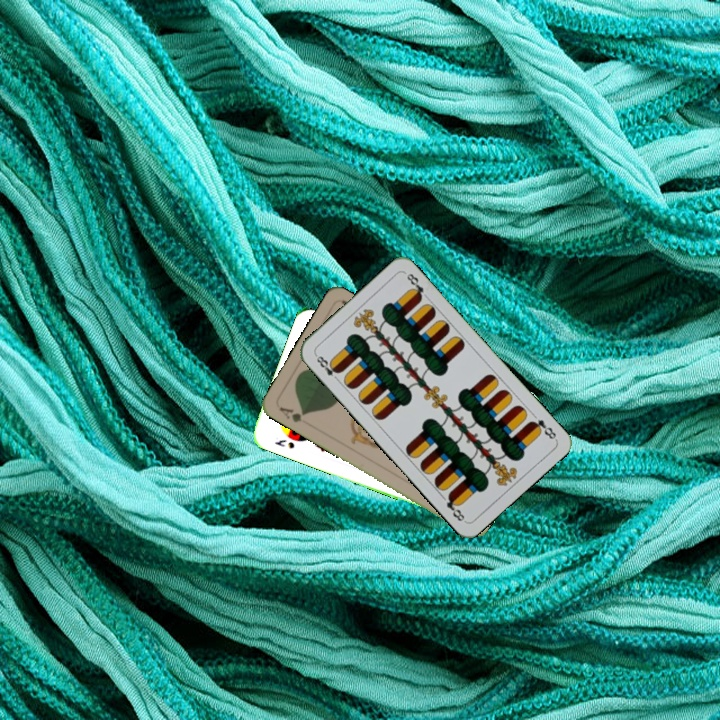E8: (311, 350, 343, 384), (525, 415, 559, 442)
GA: (275, 403, 308, 425)
SK: (271, 435, 297, 451)
